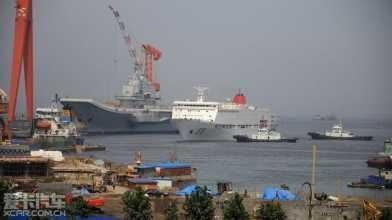otherboat: (234, 118, 297, 144), (306, 119, 376, 141)
warship: (65, 61, 176, 126)
youlun: (160, 88, 278, 139)
